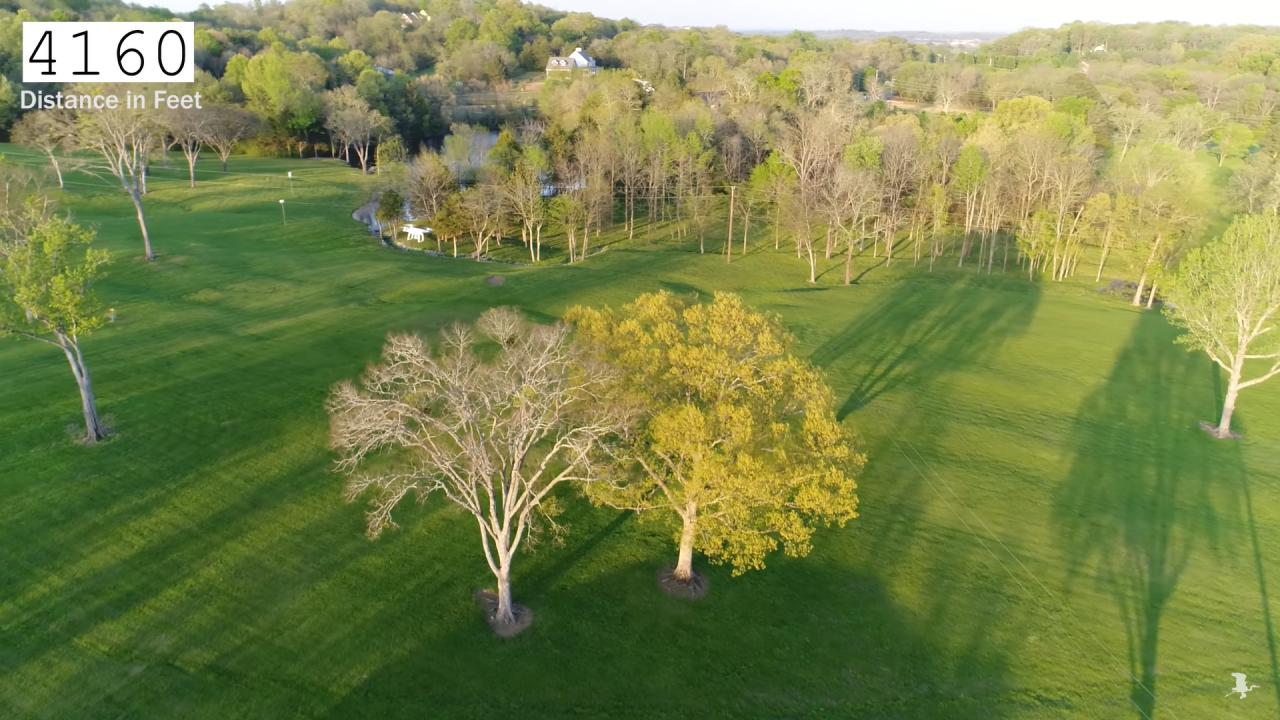Drone: (394, 213, 439, 249)
